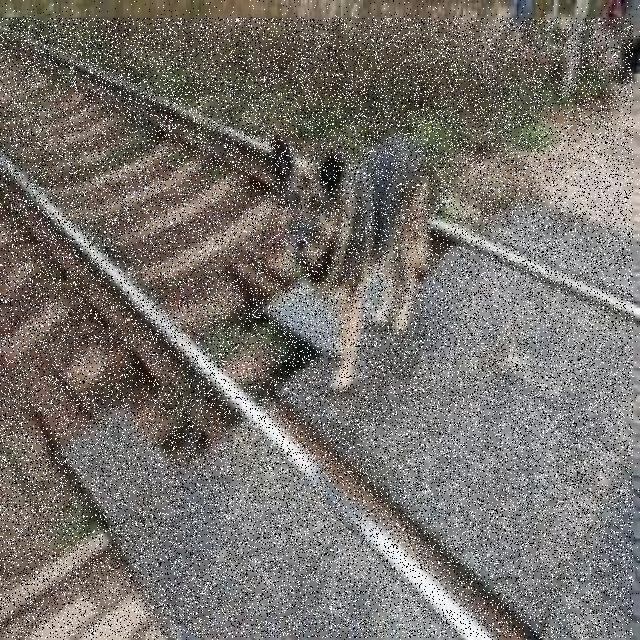rail: (2, 19, 634, 639)
